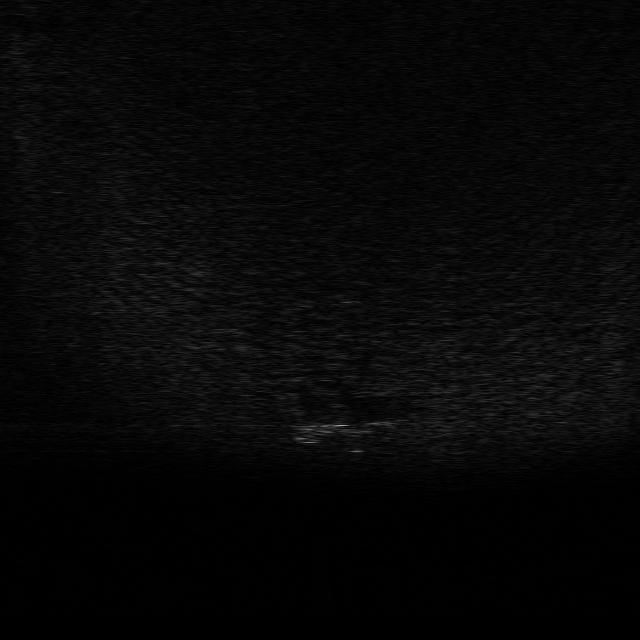plane: (282, 404, 392, 456)
